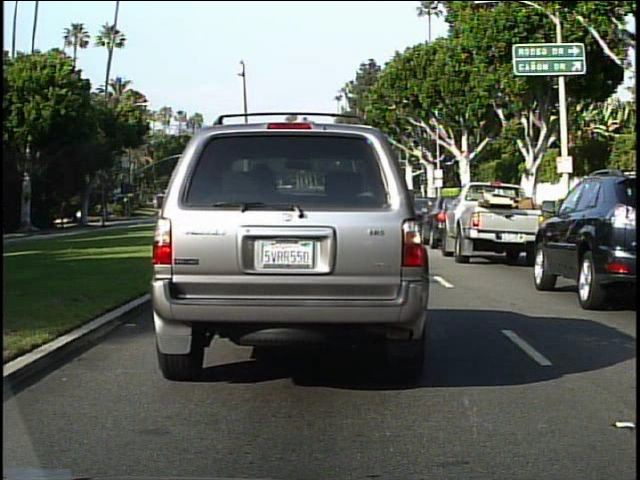person: (75, 206, 85, 228)
